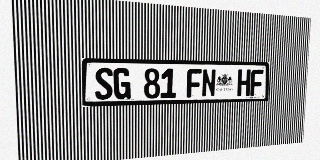1: (160, 68, 176, 98)
8: (144, 68, 160, 99)
F: (187, 69, 202, 98), (250, 69, 263, 96)
G: (113, 68, 131, 99)
H: (237, 69, 251, 96)
N: (201, 69, 216, 97)
S: (95, 68, 113, 100)
